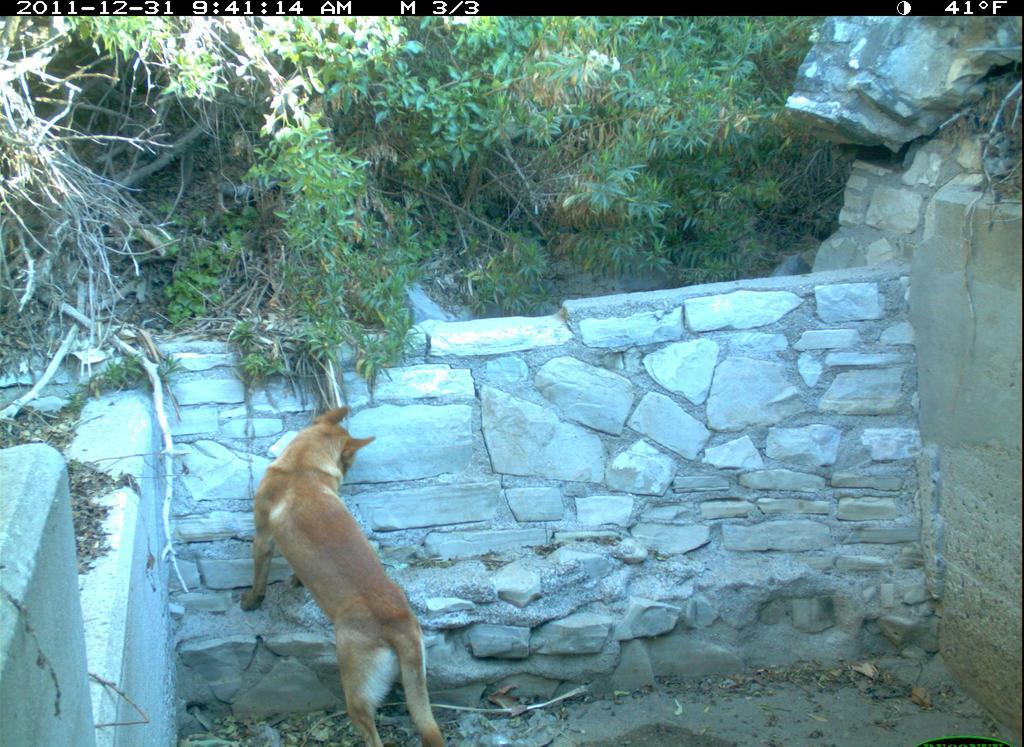dog: (231, 396, 452, 747)
